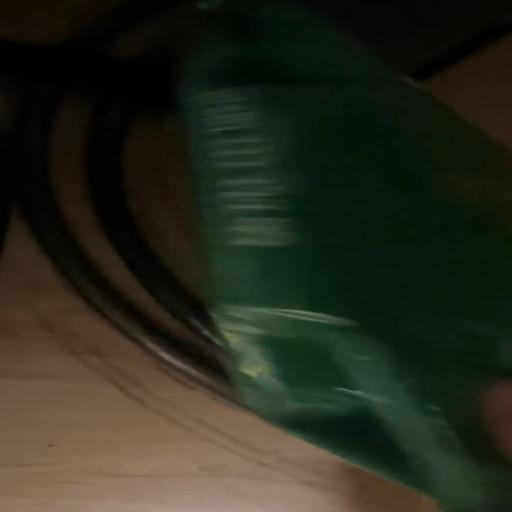cafe_xay: (162, 0, 511, 512)
